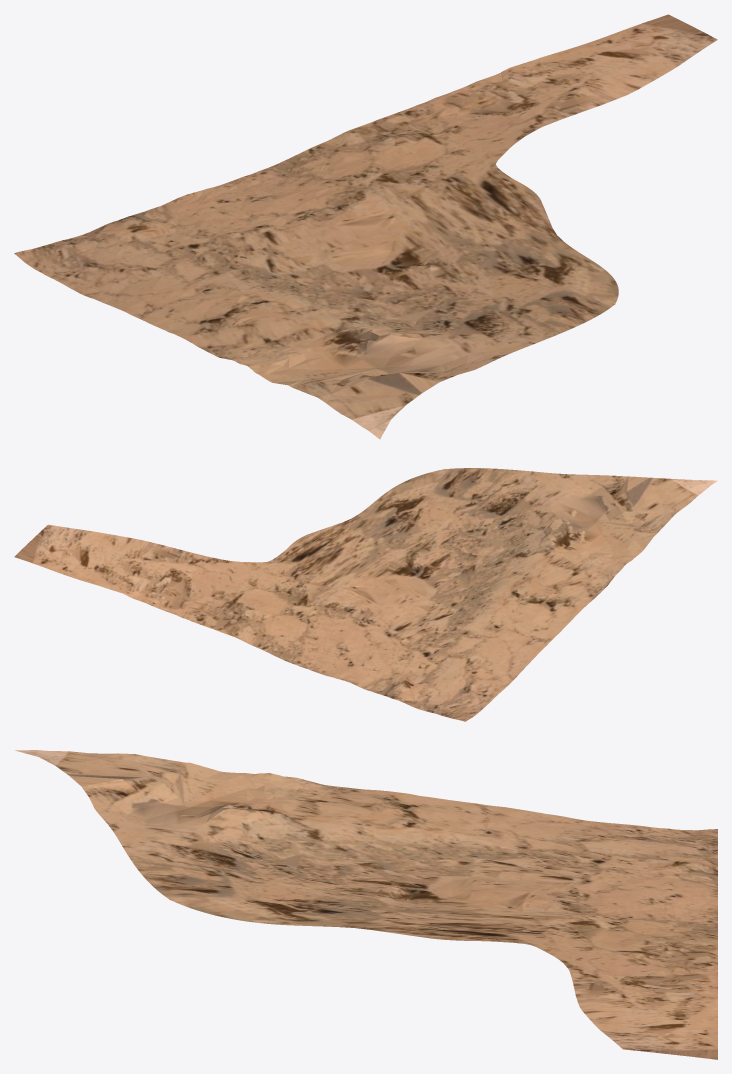
The picture shows the model from 3 angles, top to bottom: view 1: azimuth 30°, elevation 25°; view 2: azimuth 150°, elevation 25°; view 3: azimuth 270°, elevation 25°; orthographic projection. The views are drawn at different scales.
Bounding box in the file's own units: 16.71 × 2.24 × 16.19.
2 materials, 2 textured.
